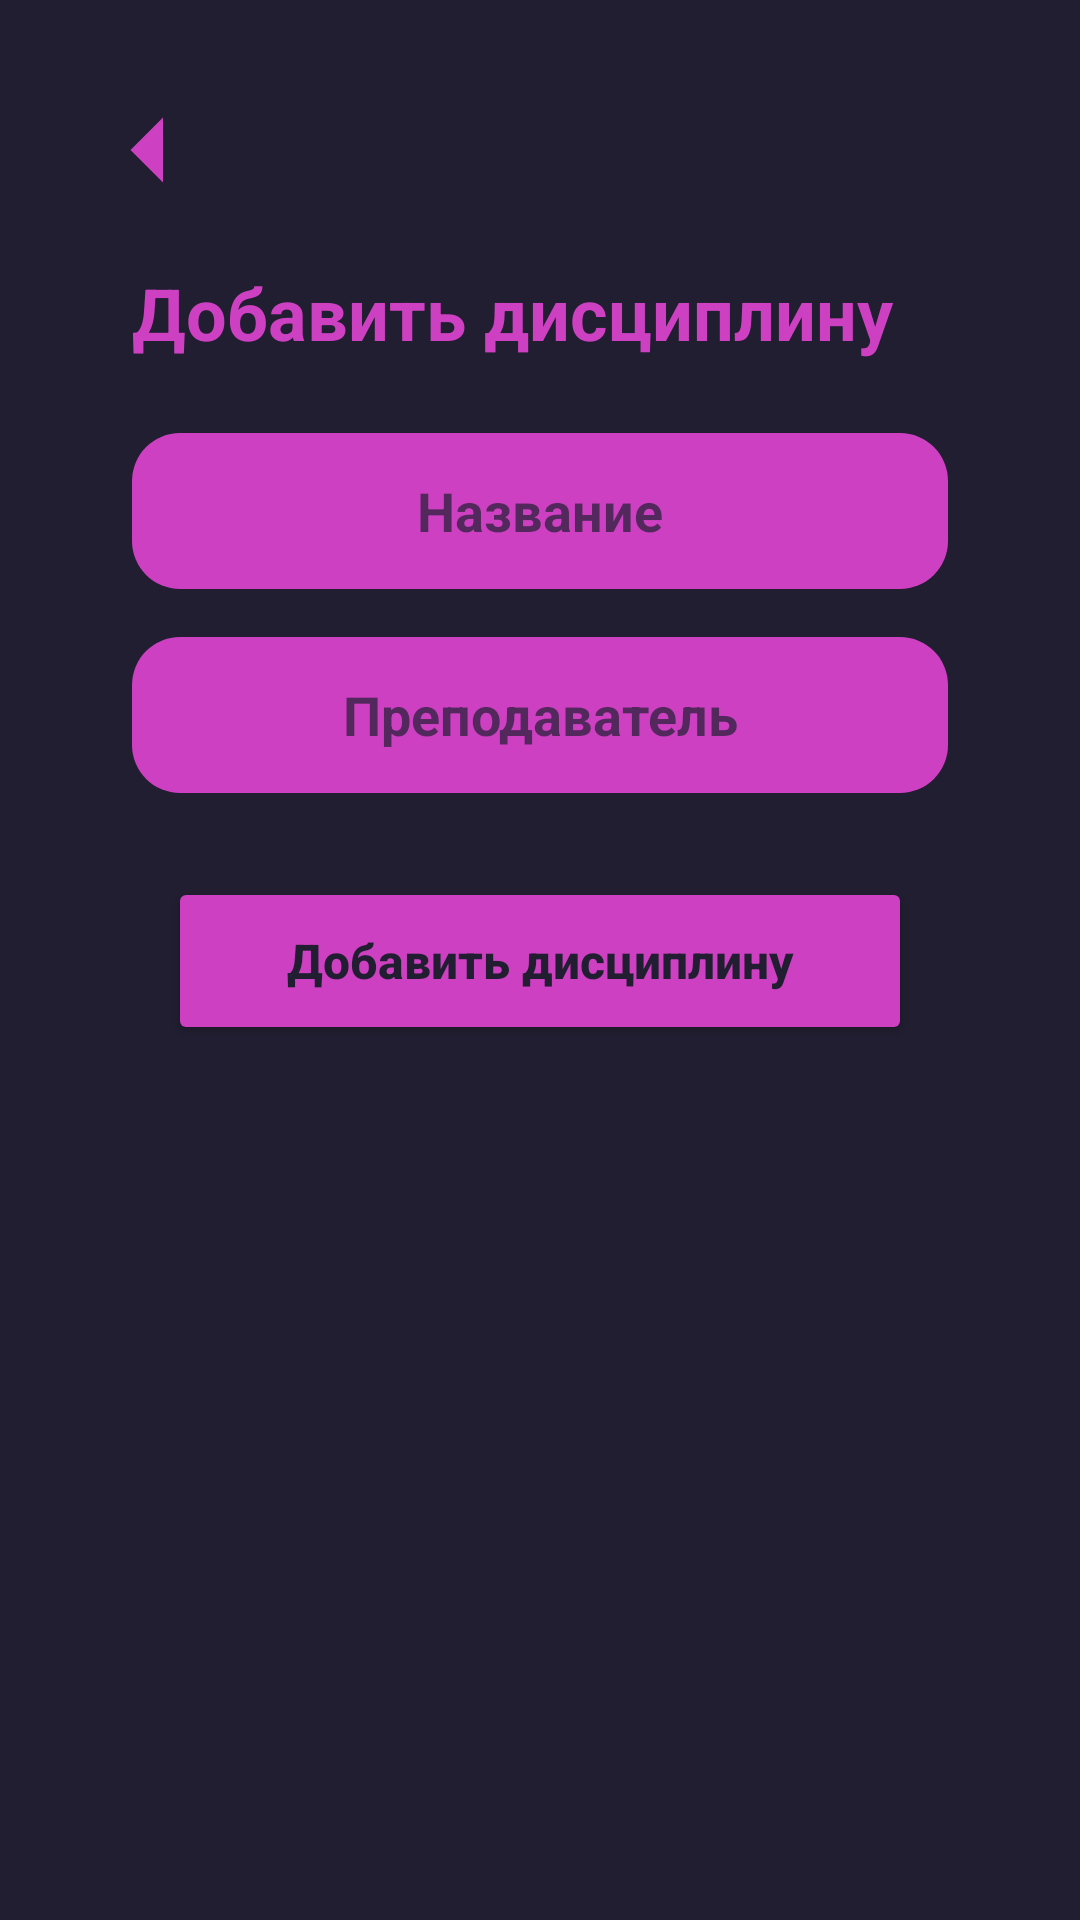

Icon bounding boxes for this 1080 × 1920 phone screenshot, format box(x1, y1, x2, y2):
Назад: box(131, 118, 163, 182)
